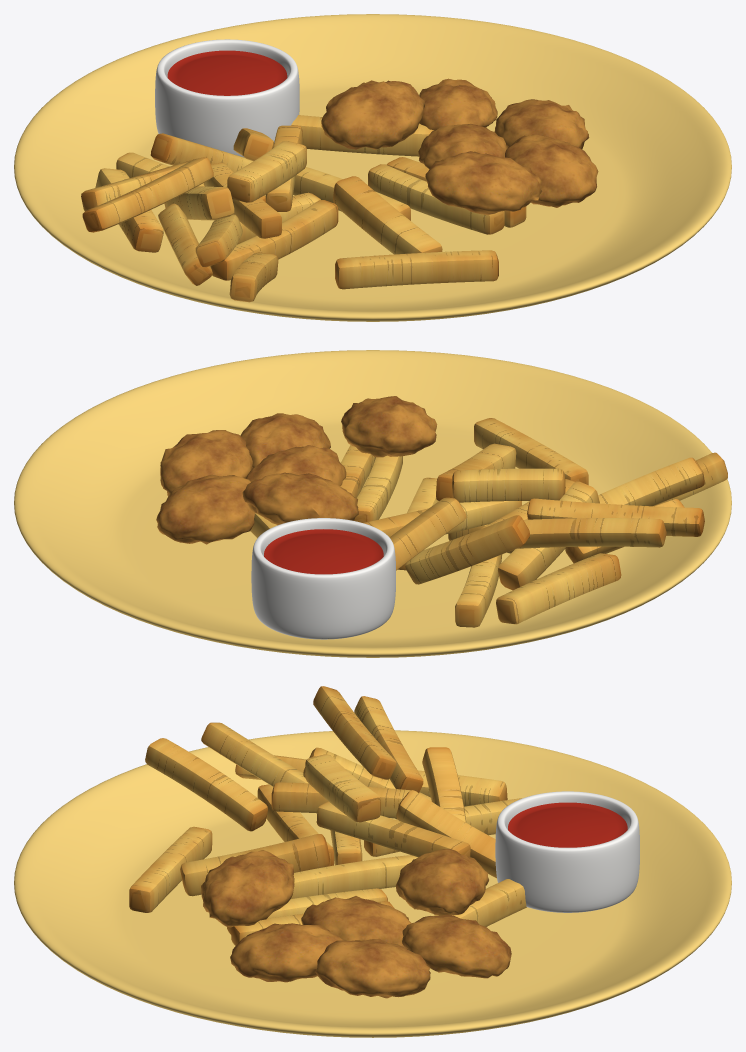
Rendered from kids-nuggets.glb.
The picture shows the model from 3 angles, top to bottom: view 1: azimuth 30°, elevation 25°; view 2: azimuth 150°, elevation 25°; view 3: azimuth 270°, elevation 25°; orthographic projection.
Parts seen in each view (by area): view 1: base, kids-fries, nuggets, ketchup; view 2: base, kids-fries, nuggets, ketchup; view 3: base, kids-fries, nuggets, ketchup.
Part boxes in pixels (x1,y1,x2,y2): base: (14,14,731,321); kids-fries: (81,115,526,302); nuggets: (321,78,598,214); ketchup: (167,50,287,95); base: (14,350,731,657); kids-fries: (250,418,727,627); nuggets: (156,396,437,544); ketchup: (264,529,383,574); base: (14,730,731,1037); kids-fries: (129,686,526,945); nuggets: (201,849,511,998); ketchup: (508,802,627,847).
Size of the model in its own units: 0.258 by 0.0408 by 0.258.
Materials: 10 (7 with a texture image).
